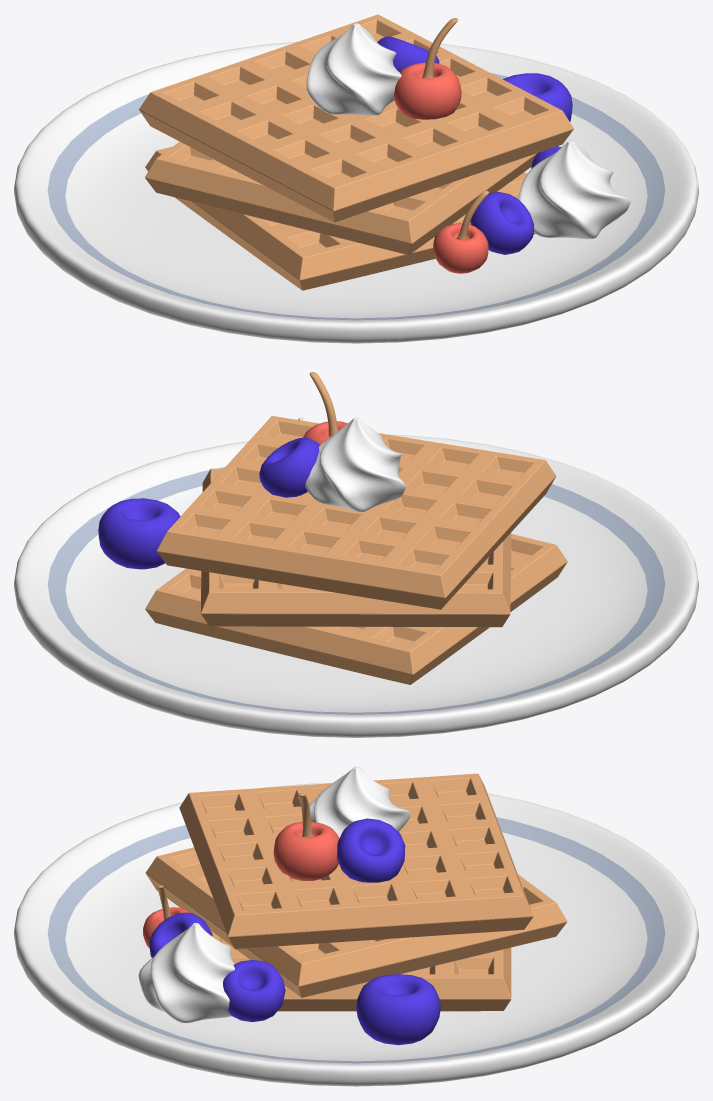
Rendered from asset.glb.
The picture shows the model from 3 angles, top to bottom: view 1: azimuth 30°, elevation 25°; view 2: azimuth 150°, elevation 25°; view 3: azimuth 270°, elevation 25°; orthographic projection.
Parts seen in each view (by area): view 1: Waffle; view 2: Waffle; view 3: Waffle.
Part boxes in pixels (bbox=[...]): Waffle: bbox=[14, 14, 698, 343]; Waffle: bbox=[14, 372, 698, 737]; Waffle: bbox=[14, 766, 698, 1086].
Size of the model in its own units: 0.854 by 0.2805 by 0.8565.
